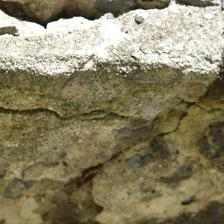Crack: (36, 76, 99, 148), (122, 46, 144, 92)
